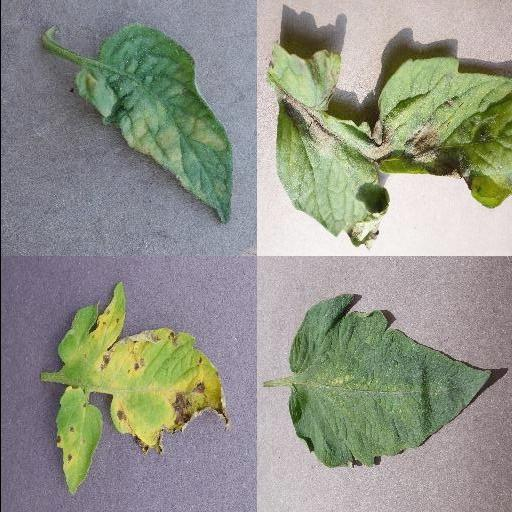Late Blight: (264, 42, 512, 250)
Leaf Mold: (74, 27, 232, 224)
Septoria: (55, 285, 229, 454), (55, 387, 103, 497)
Spider Mites: (288, 294, 490, 470)
